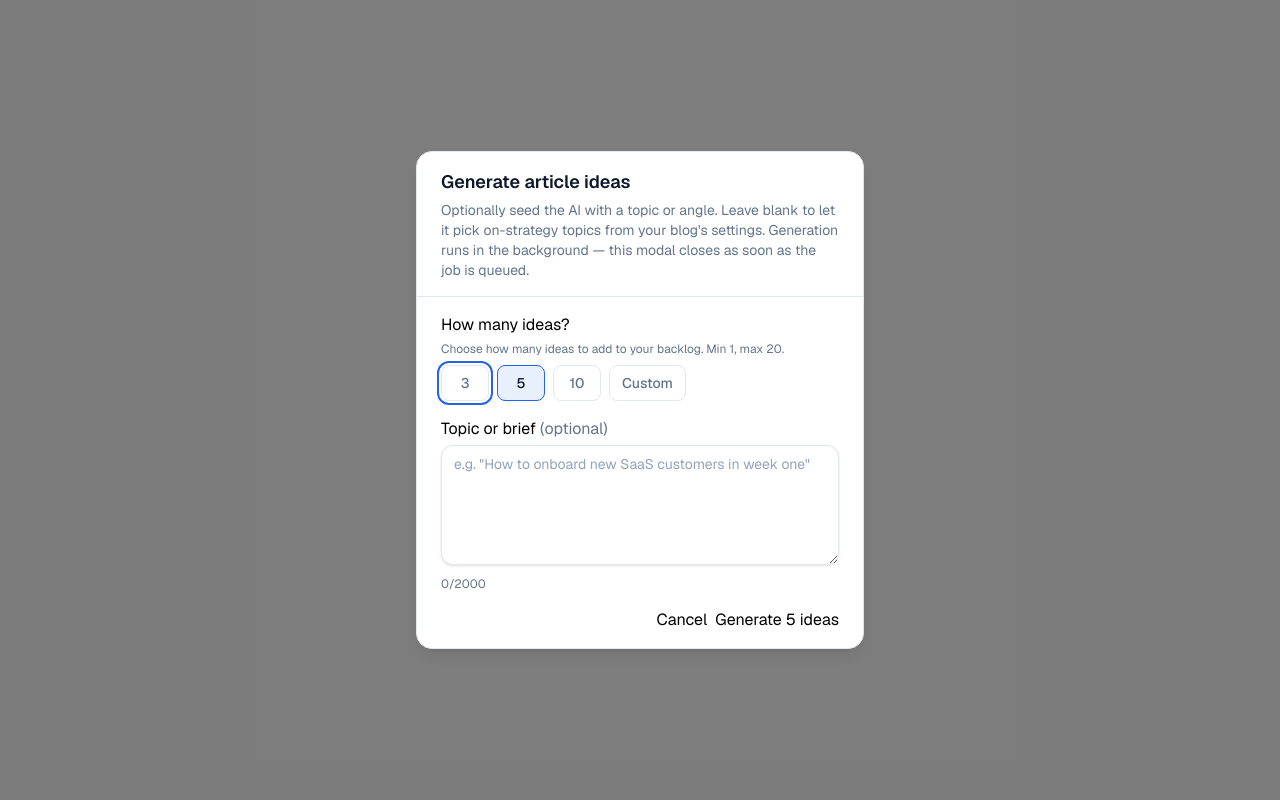
GenerateIdeasModal › reveals a numeric Custom input when the Custom chip is clicked
Click the radio button labelled "Custom" at x=648, y=383, box [609, 365, 686, 401]
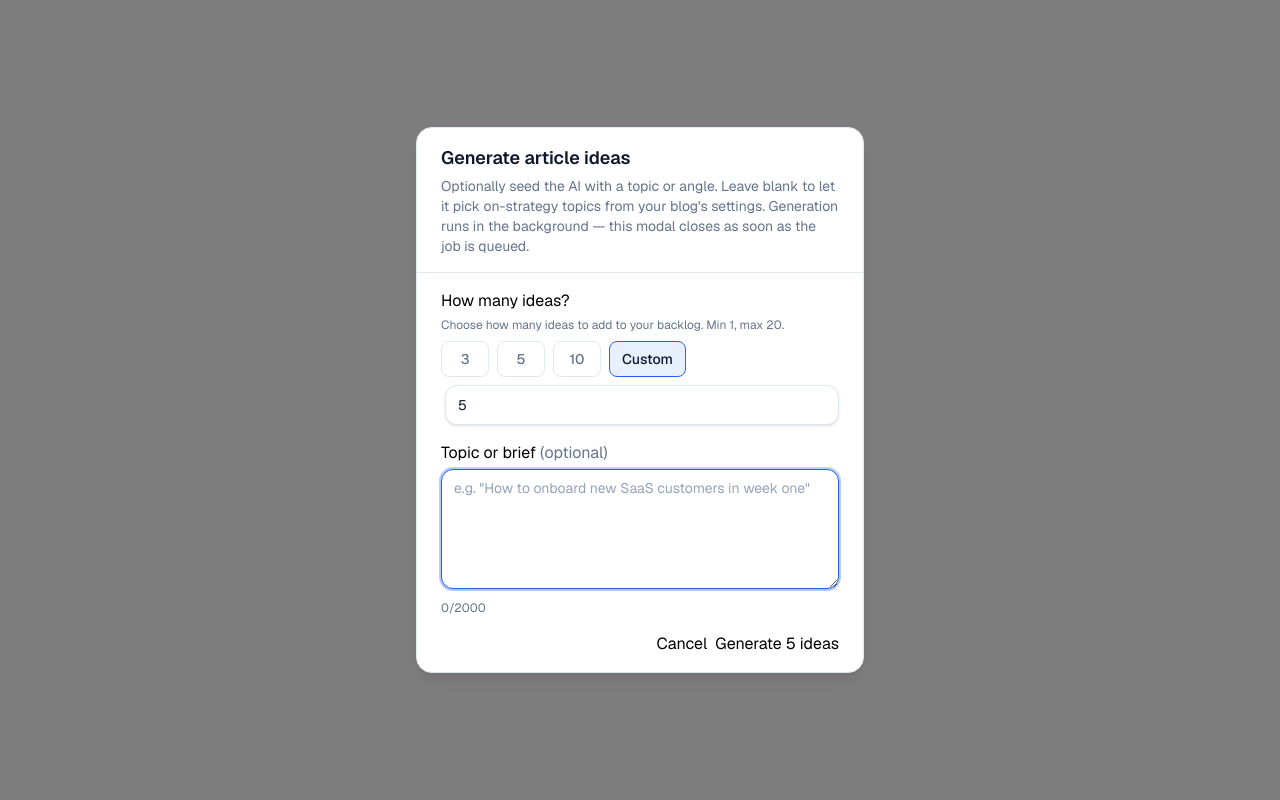
Result: the number field named "custom idea count" is shown at [445, 385, 839, 425]
